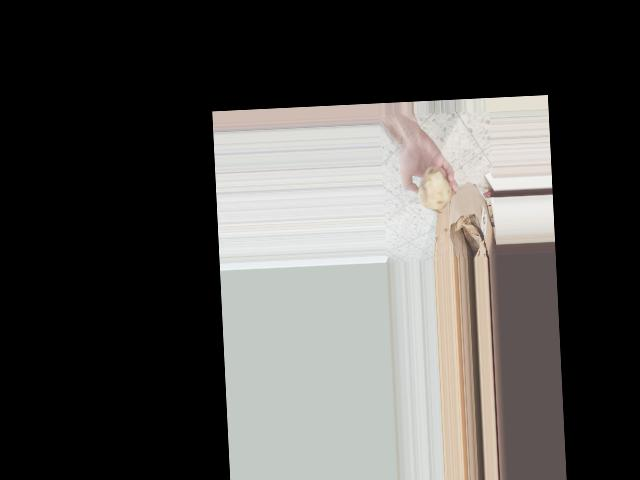onion: (414, 163, 455, 213)
